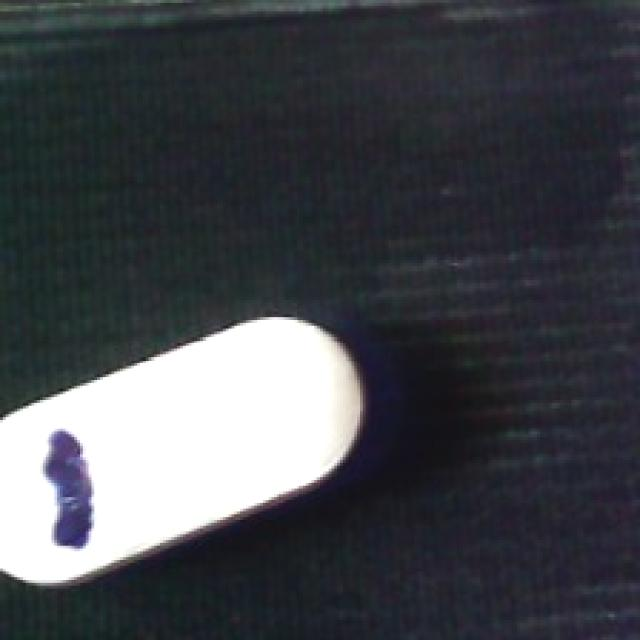defected: (0, 311, 375, 593)
